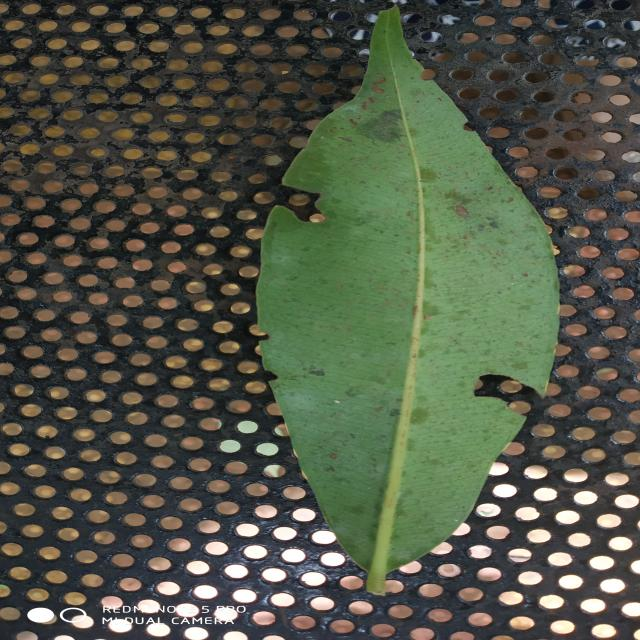nerale: (258, 8, 558, 592)
